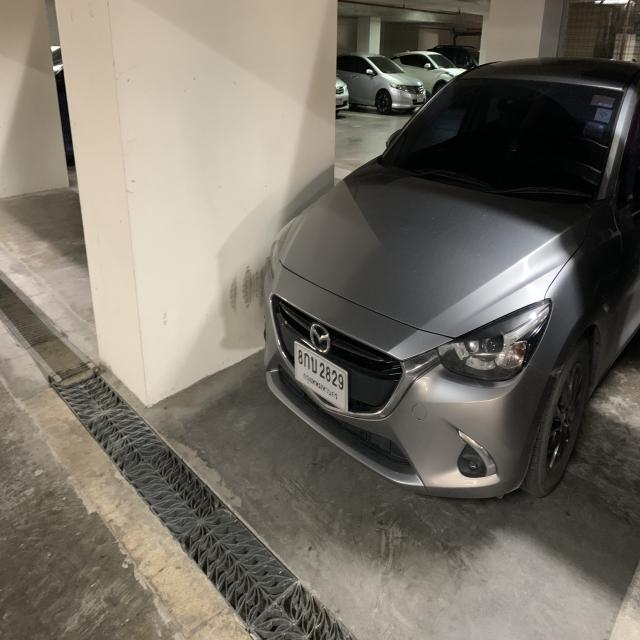license_plate: (292, 340, 350, 414)
